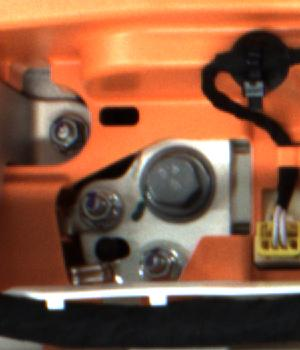nut_b: (138, 147, 227, 228)
screw_s: (40, 112, 84, 151), (141, 241, 181, 282), (78, 181, 115, 224)
